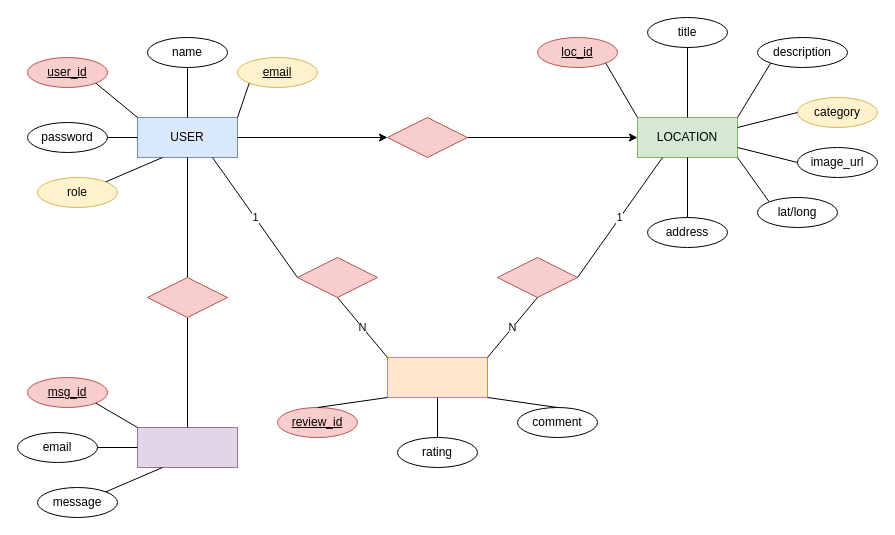
Image size: 895x535. Some labels were removed from this diagram. The centre of each missing label's shape, as x and y in pixels:
Admin Views: the point at 187,297
CONTACT_MSG: the point at 187,447
HAS: the point at 537,277
REVIEW: the point at 437,377
Views: the point at 427,137
WRITES: the point at 337,277
